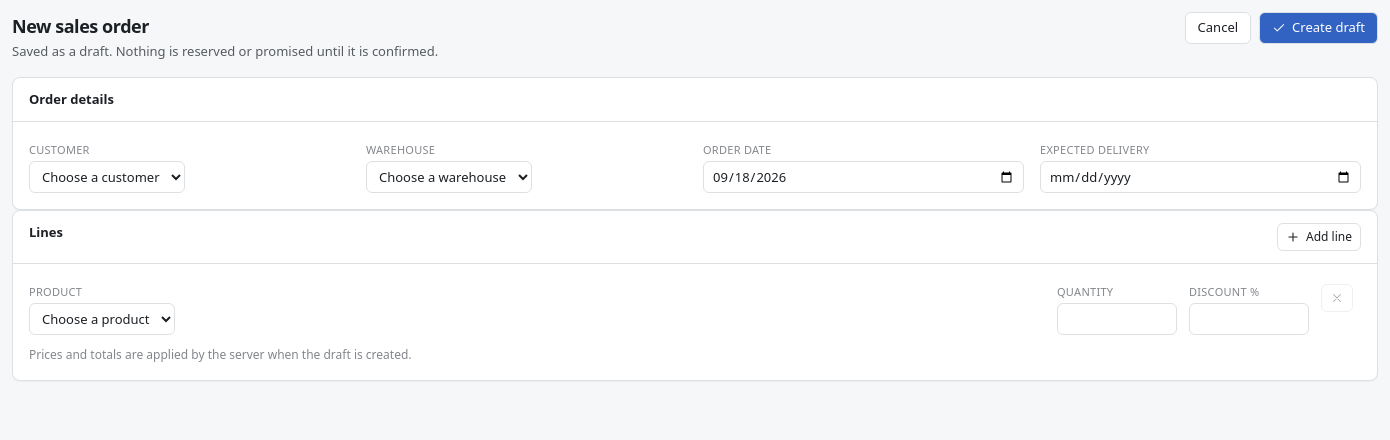
before it will submit › sends nothing when the required fields are empty
Click the button "Create draft" at [1319, 28], box [1259,12,1378,44]
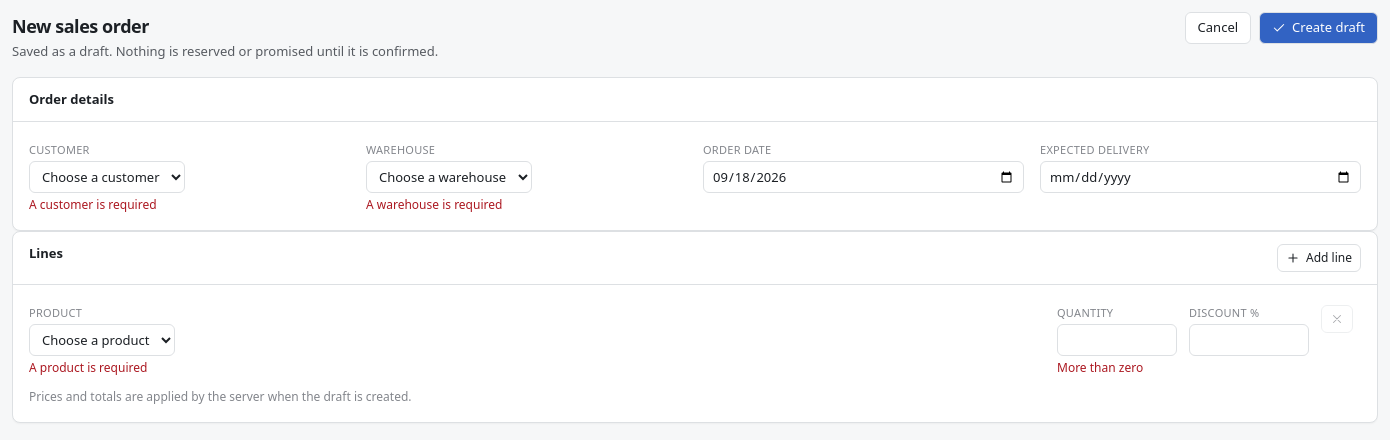
Expected: the text "A customer is required" is shown, [29,196,157,213]
